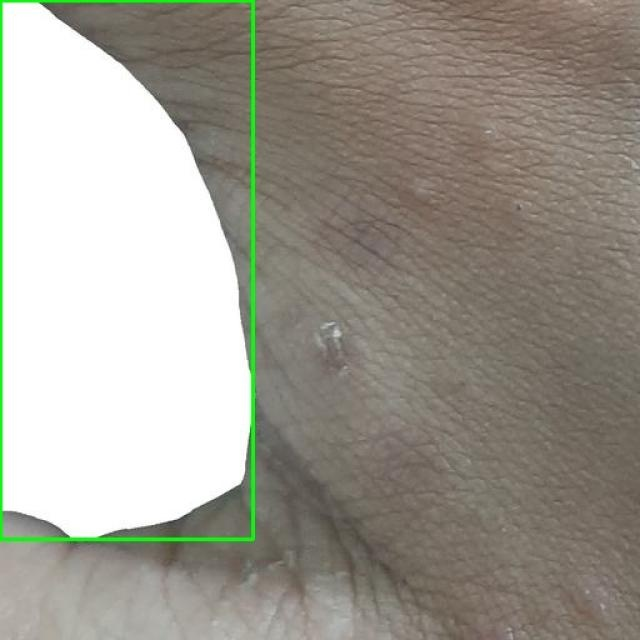Scabies: (0, 0, 252, 539)
